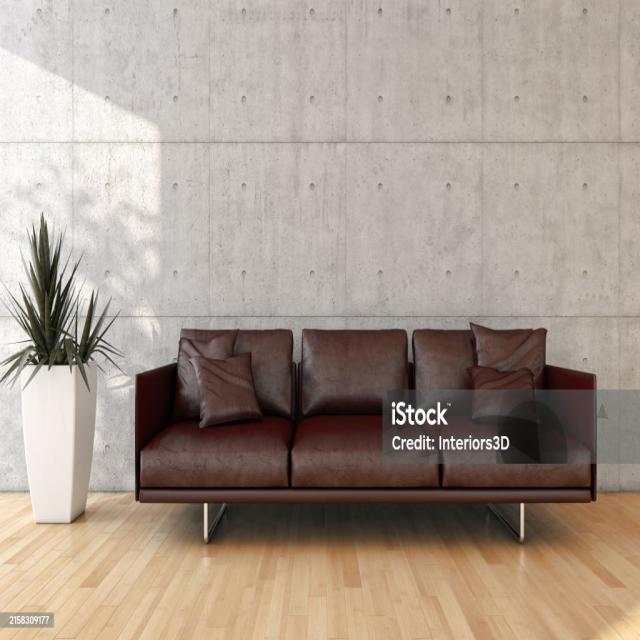back_cushion: (298, 323, 546, 416), (234, 330, 294, 414), (209, 331, 233, 338), (181, 330, 193, 338), (195, 330, 204, 339)
left_arm: (546, 366, 596, 448)
legs: (492, 503, 524, 542), (203, 503, 224, 543)
right_arm: (135, 364, 176, 497)
seat_cushion: (139, 414, 594, 502)
stallion-sofa1: (0, 0, 639, 639)
